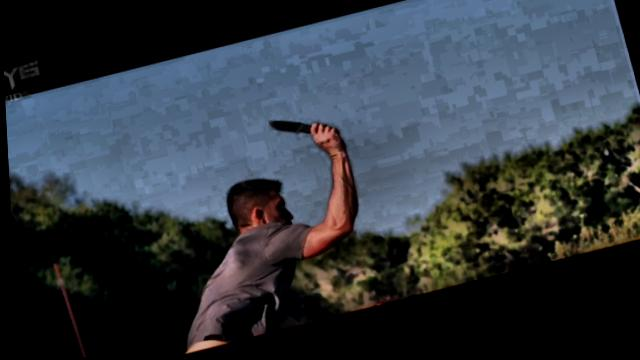knife: (262, 101, 342, 158)
